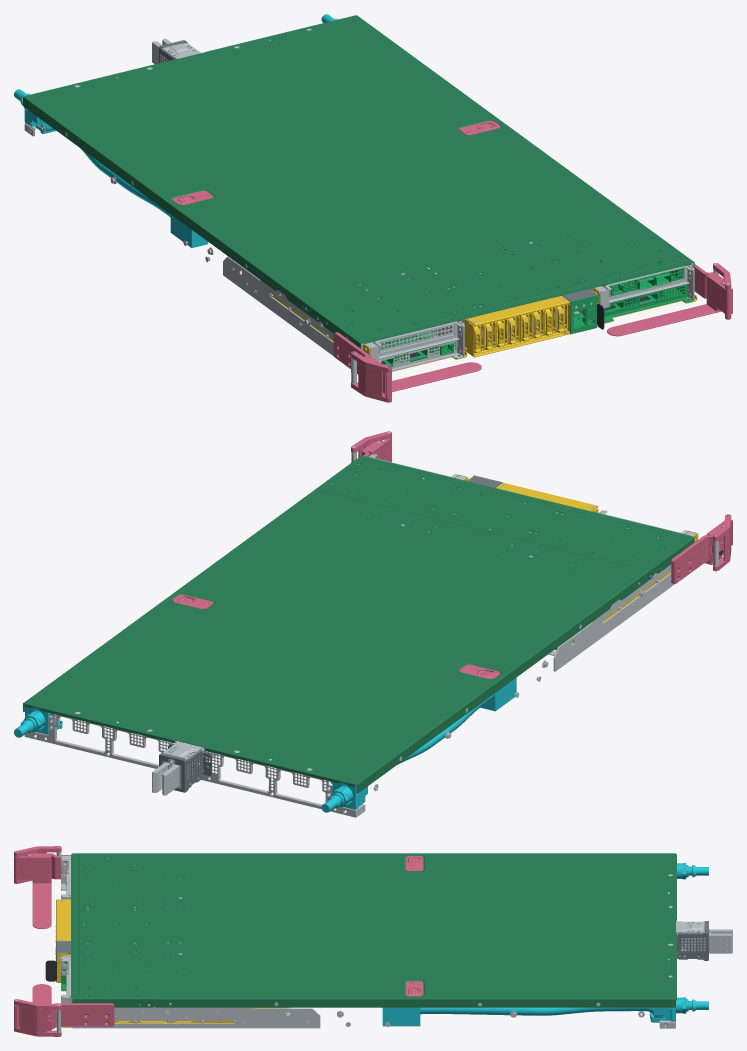
File: carlo-next-l10-desktop.glb
3 renders of one model, top to bottom at view 1: azimuth 30°, elevation 25°; view 2: azimuth 150°, elevation 25°; view 3: azimuth 270°, elevation 25°, orthographic. The views are drawn at different scales.
Parts seen in each view (by area): view 1: GB3_MGX102_TOP_COVER_766_1_V08, GB3_GPU_CAGE_COVER_1_1_V08, GB3_SM_GPU_SIDE_BKT_R_V08, CARLO_INNER-MANIFOLD_ASM, GB3_HANDLE_LEVER_L_REV_B0_1_V08, GB3_MGX101_PCIE_IO_WIN_SG_V08, GB3_MGX101_PCIE_IO_WIN_SG_V001, MGX101_PCIE_OSFP_NIC_WIN_AVL_6_, GB3_HANDLE_LEVER_L_REV_B0_1_V001, GB3_YPE_C-E1S-CAGE-T-CVR_1_V08, GB300_BF3_SFG005171_SS_V08, GB3_PCIE_OSFP_NIC_WIN1_AVL_V08 (+5 smaller); view 2: GB3_MGX102_TOP_COVER_766_1_V08, GB3_GPU_CAGE_COVER_1_1_V08, GB3_1_REAR-BRACKET-ONE_V08, GB3_SM_GPU_SIDE_BKT_R_V08, CARLO_INNER-MANIFOLD_ASM, GB3_HANDLE_MNT_L_REVD0_V08, GB3_BUSBAR-BRKT-BASE_1_V08, GB3_BK220_NARROW_1U_41724_1_V08, GB3_YPE_C-E1S-CAGE-T-CVR_1_V08, CARLO_INNER-MANIFOLD_ASM001; view 3: GB3_MGX102_TOP_COVER_766_1_V08, GB3_GPU_CAGE_COVER_1_1_V08, GB3_MGX101_GPU1_SIDE_BKT-L_V08, CARLO_INNER-MANIFOLD_ASM001, GB3_HANDLE_MNT_R_REV_D0_2_V08, GB3_LEVER_CON_L_REVB0_V08, GB3_HANDLE_LEVER_L_REV_B0_1_V001, GB3_BUSBAR-BRKT-BASE_1_V08, GB3_BK220_NARROW_1U_41724_1_V08, GB3_MGX_COVER_LINK_HANDLE_V08, GB3_YPE_C-E1S-CAGE-T-CVR_1_V08, GB3_MGX101_GPU_BKT-CAGE_V08 (+4 smaller).
Part boxes in pixels (x1,y1,x2,y2): GB3_MGX102_TOP_COVER_766_1_V08: (23,15,647,318); GB3_GPU_CAGE_COVER_1_1_V08: (314,228,694,348); GB3_SM_GPU_SIDE_BKT_R_V08: (223,256,362,356); CARLO_INNER-MANIFOLD_ASM: (14,89,208,247); GB3_HANDLE_LEVER_L_REV_B0_1_V08: (607,304,721,336); GB3_MGX101_PCIE_IO_WIN_SG_V08: (600,265,693,307); GB3_MGX101_PCIE_IO_WIN_SG_V001: (370,322,463,361); MGX101_PCIE_OSFP_NIC_WIN_AVL_6_: (603,274,693,322); GB3_HANDLE_LEVER_L_REV_B0_1_V001: (382,362,481,393); GB3_YPE_C-E1S-CAGE-T-CVR_1_V08: (466,296,569,326); GB300_BF3_SFG005171_SS_V08: (602,262,694,296); GB3_PCIE_OSFP_NIC_WIN1_AVL_V08: (379,330,463,370); GB3_MGX102_TOP_COVER_766_1_V08: (23,489,648,793); GB3_GPU_CAGE_COVER_1_1_V08: (315,456,694,579); GB3_1_REAR-BRACKET-ONE_V08: (24,713,365,817); GB3_SM_GPU_SIDE_BKT_R_V08: (553,564,674,671); CARLO_INNER-MANIFOLD_ASM: (321,677,516,812); GB3_HANDLE_MNT_L_REVD0_V08: (671,525,724,583); GB3_BUSBAR-BRKT-BASE_1_V08: (159,744,211,792); GB3_BK220_NARROW_1U_41724_1_V08: (152,748,216,795); GB3_YPE_C-E1S-CAGE-T-CVR_1_V08: (496,482,598,511); CARLO_INNER-MANIFOLD_ASM001: (14,707,60,737); GB3_MGX102_TOP_COVER_766_1_V08: (154,853,676,1007); GB3_GPU_CAGE_COVER_1_1_V08: (71,853,154,1007); GB3_MGX101_GPU1_SIDE_BKT-L_V08: (72,1003,320,1028); CARLO_INNER-MANIFOLD_ASM001: (382,997,708,1026); GB3_HANDLE_MNT_R_REV_D0_2_V08: (47,1003,114,1029); GB3_LEVER_CON_L_REVB0_V08: (14,855,51,883); GB3_HANDLE_LEVER_L_REV_B0_1_V001: (32,883,51,928); GB3_BUSBAR-BRKT-BASE_1_V08: (677,921,708,960); GB3_BK220_NARROW_1U_41724_1_V08: (677,929,732,953); GB3_MGX_COVER_LINK_HANDLE_V08: (20,1006,46,1032); GB3_YPE_C-E1S-CAGE-T-CVR_1_V08: (56,899,70,941); GB3_MGX101_GPU_BKT-CAGE_V08: (61,955,279,1027).
Size of the model in its own units: 0.4815 by 0.0437 by 0.9121.
